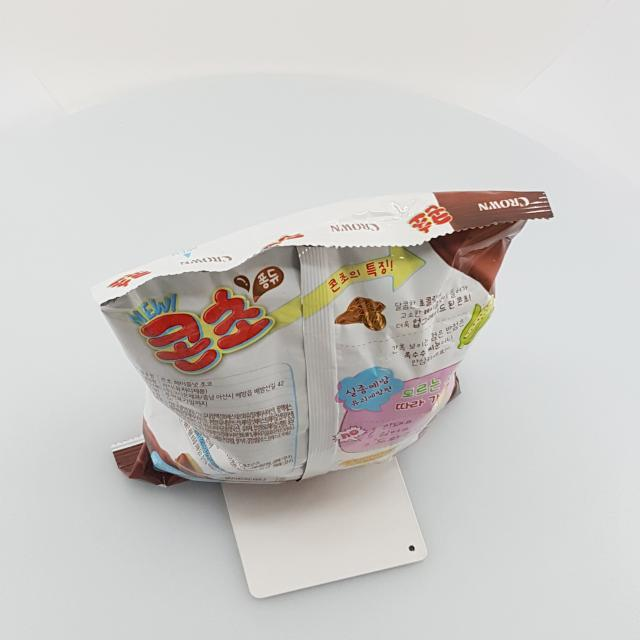-66G: (90, 192, 555, 489)
